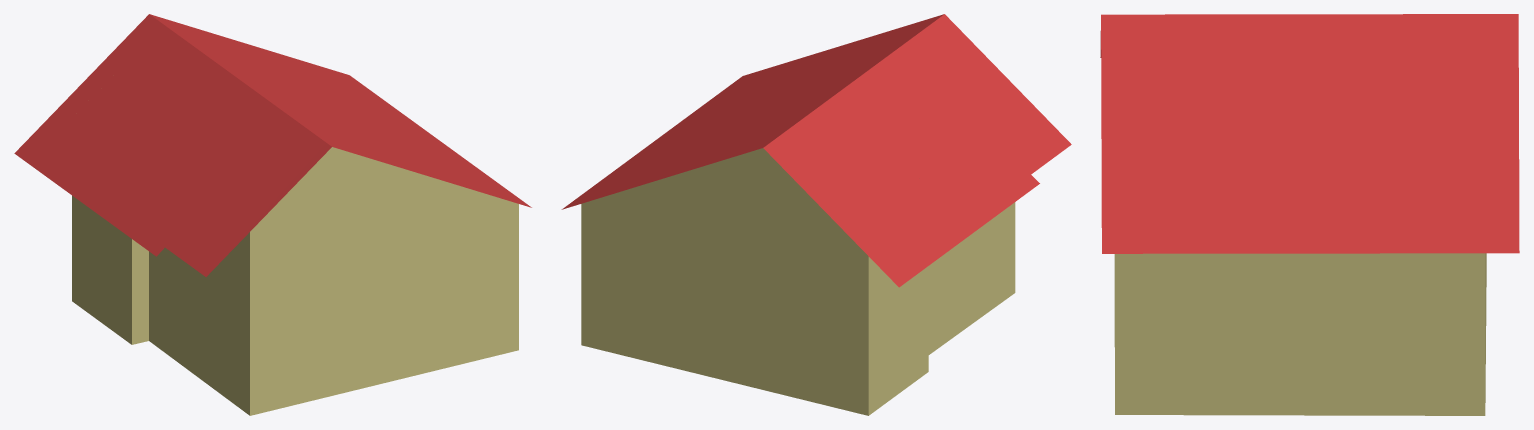
3 views of the same model, side by side, from view 1: azimuth 30°, elevation 25°; view 2: azimuth 150°, elevation 25°; view 3: azimuth 270°, elevation 25° (orthographic). The views are drawn at different scales.
Size of the model in its own units: 18.87 by 17.7 by 13.63.
